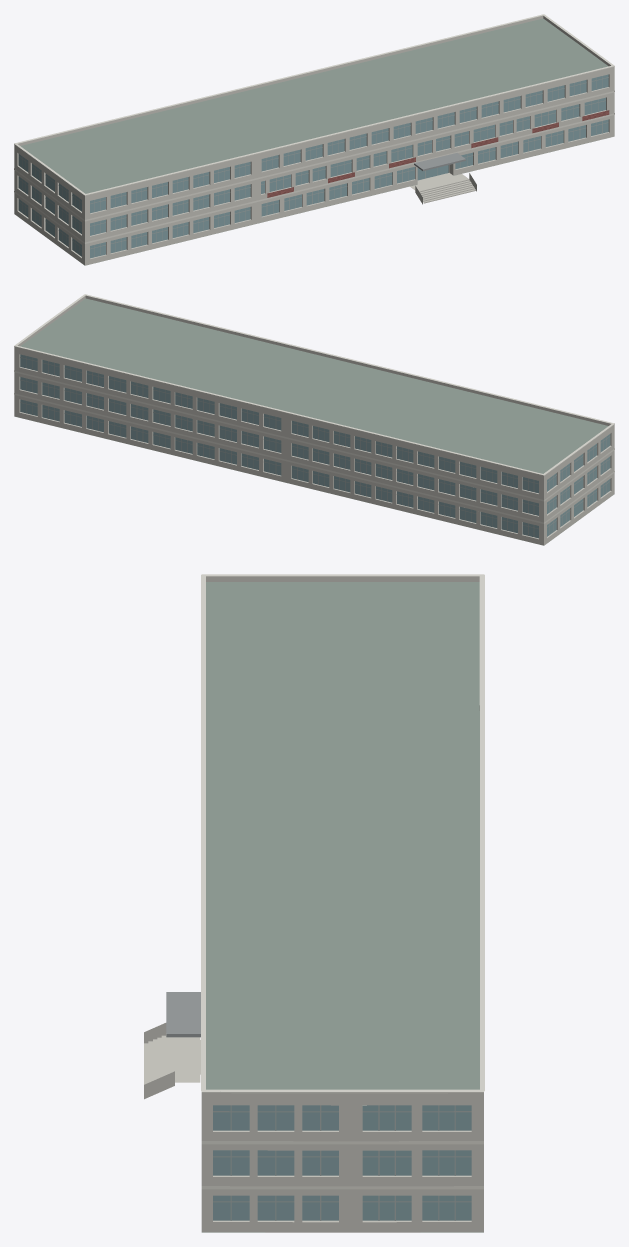
3 renders of one model, top to bottom at view 1: azimuth 30°, elevation 25°; view 2: azimuth 150°, elevation 25°; view 3: azimuth 270°, elevation 25°, orthographic. The views are drawn at different scales.
Visible parts, largest first — view 1: west__roof, west__wall, west__glass, west__trim, west__parapet, west__frame, west__wall2, west__externalStairTreads, west__externalStairRisers, west__canopy, west__externalStairLanding; view 2: west__roof, west__wall, west__glass, west__trim, west__parapet, west__frame; view 3: west__roof, west__wall, west__glass, west__trim, west__parapet, west__frame, west__canopy, west__externalStairTreads, west__externalStairLanding.
Boxes of the visible parts, x1,y1,x2,y2 form: west__roof: (14, 18, 610, 265); west__wall: (14, 69, 614, 265); west__glass: (18, 74, 608, 258); west__trim: (14, 14, 614, 243); west__parapet: (14, 15, 614, 197); west__frame: (18, 76, 608, 256); west__wall2: (267, 110, 609, 197); west__externalStairTreads: (419, 178, 475, 202); west__externalStairRisers: (419, 179, 475, 203); west__canopy: (414, 153, 465, 171); west__externalStairLanding: (410, 174, 467, 190); west__roof: (18, 298, 614, 543); west__wall: (14, 349, 614, 545); west__glass: (20, 354, 610, 538); west__trim: (14, 294, 614, 523); west__parapet: (14, 295, 614, 477); west__frame: (20, 356, 610, 536); west__roof: (202, 582, 483, 1232); west__wall: (201, 1097, 483, 1232); west__glass: (213, 1105, 471, 1220); west__trim: (201, 574, 484, 1189); west__parapet: (201, 576, 483, 1097); west__frame: (213, 1105, 471, 1220); west__canopy: (166, 992, 200, 1037); west__externalStairTreads: (144, 1034, 174, 1084); west__externalStairLanding: (175, 1037, 200, 1082).
Size of the model in its own units: 86.26 by 12.15 by 24.
Materials: 14 (1 with a texture image).
